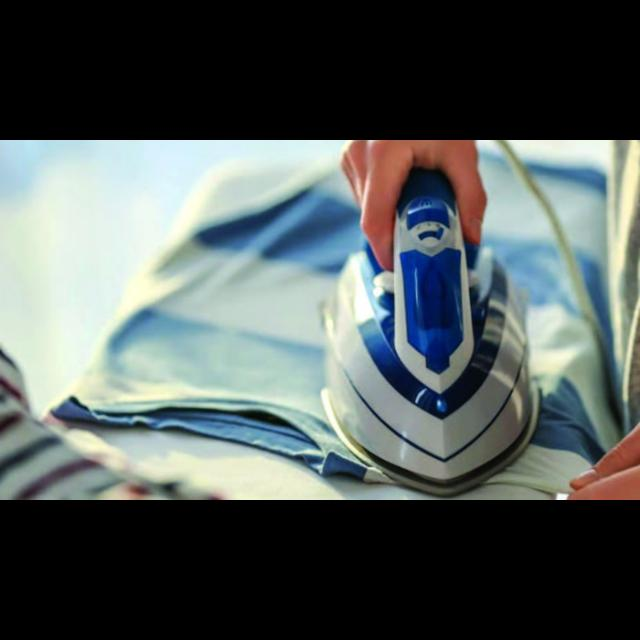Clothes-Iron: (299, 194, 549, 472)
